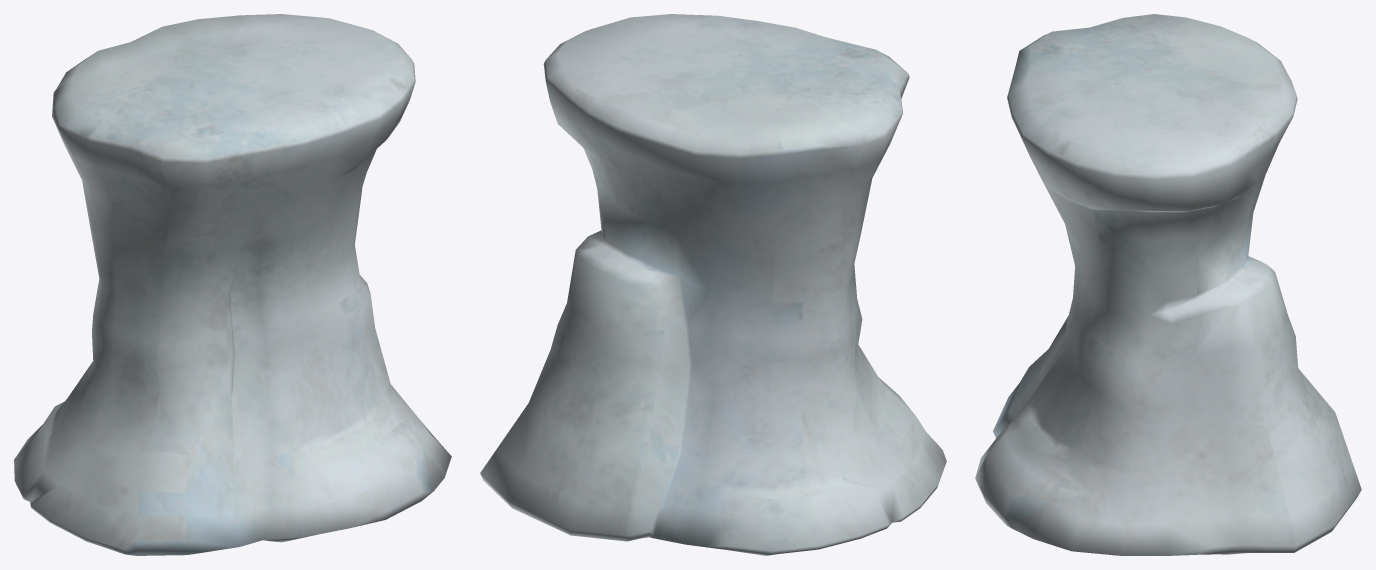
Rendered from P_RockDesert_CliffA03.obj.
The picture shows the model from 3 angles, left to right: view 1: azimuth 30°, elevation 25°; view 2: azimuth 150°, elevation 25°; view 3: azimuth 270°, elevation 25°; orthographic projection. The views are drawn at different scales.
Size of the model in its own units: 47.8 by 50.61 by 44.08.
